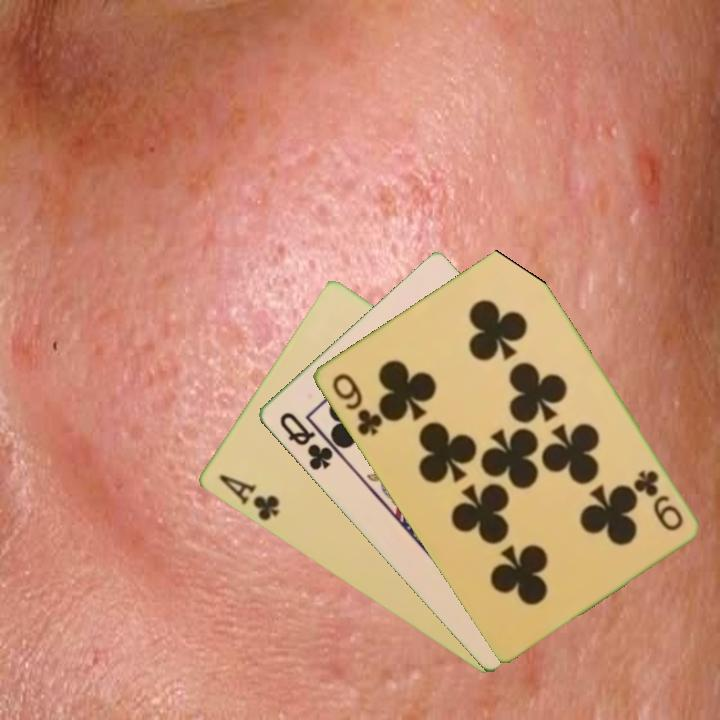9c: (328, 369, 385, 439), (630, 466, 686, 534)
Ac: (214, 471, 282, 524)
Qc: (275, 408, 336, 474)
